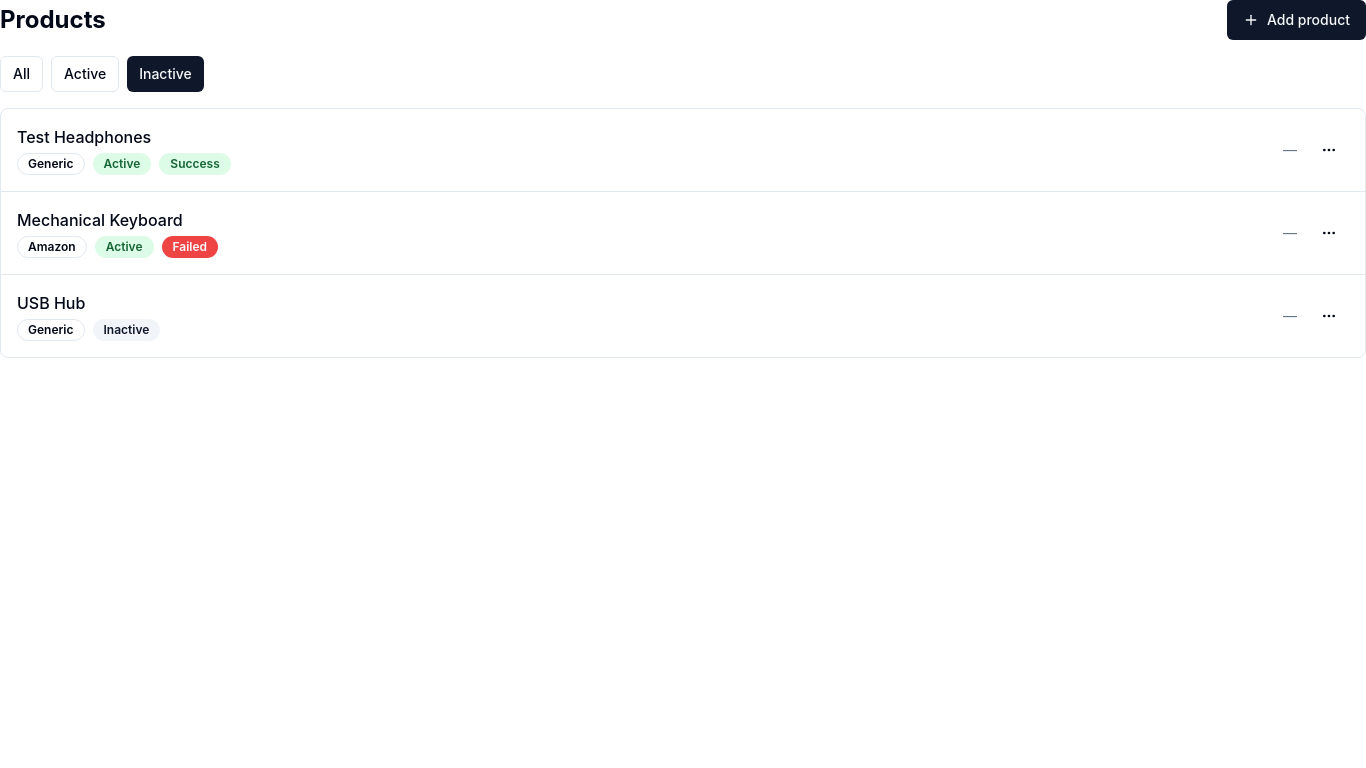
it: Dashboard › opens delete confirm dialog from dropdown
The width and height of the screenshot is (1366, 768).
expect the link "Test Headphones" is shown: met, box [17,127,151,147]
Click the button without text in the row of "Success" at (1329, 150), box [1309,130,1349,170]
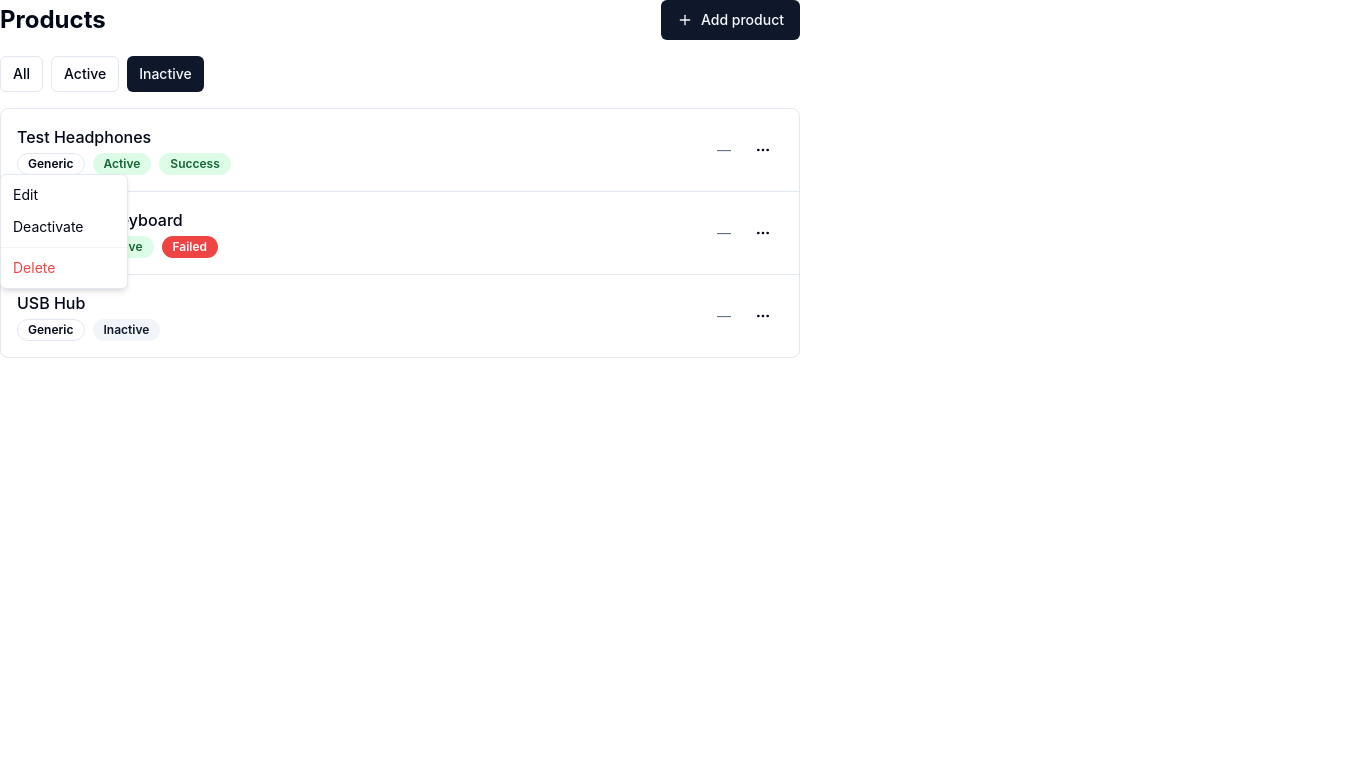
Click the menu item "Delete" at (34, 268), box [13,259,55,276]
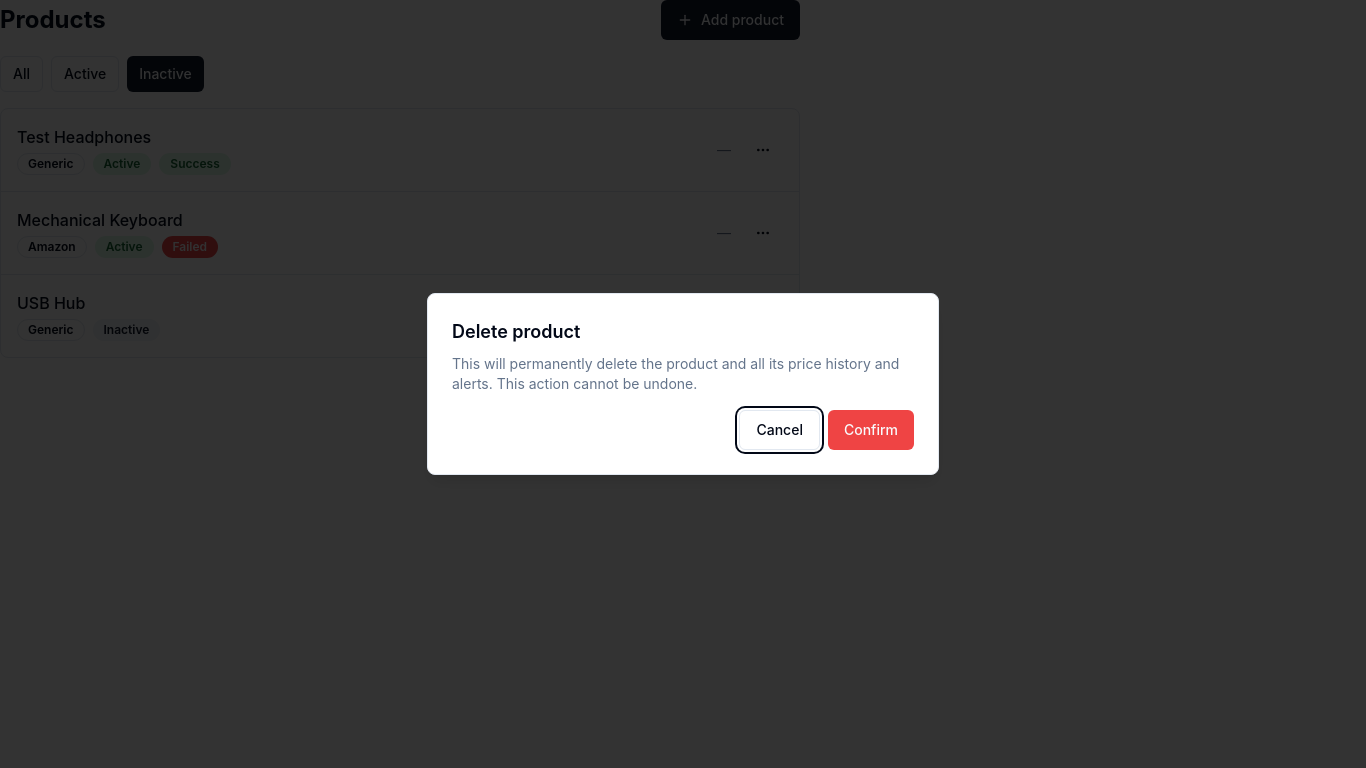
expect the heading "Delete product" is shown: met, box [452,321,580,342]
